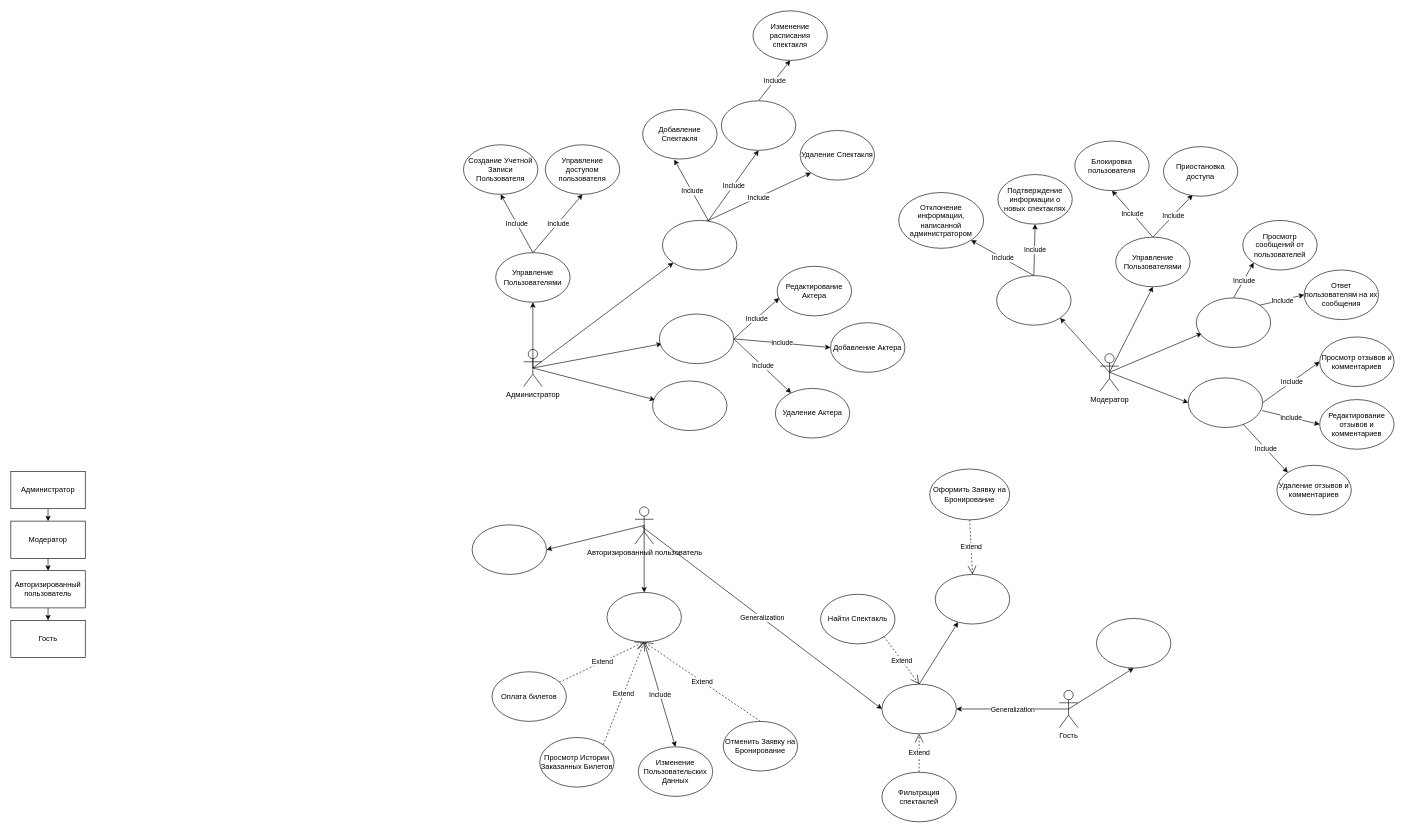
This 1405x833 diagram has some shape labels left out. Here are the shapes that lost their labels. From the top down, the centre of each, then its label:
At pixel 758 125: "Редактирование Спектакля".
At pixel 699 245: "Управление Спектаклями".
At pixel 1033 300: "Модерация информации о спектаклях".
At pixel 696 338: "Управление Актерами".
At pixel 1233 322: "Обратная связь".
At pixel 689 405: "Модерация Отзывов".
At pixel 1225 402: "Модерация отзывов и комментариев".
At pixel 509 549: "Оставление отзывов и рецензий".
At pixel 643 617: "Просмотр Личного Кабинета".
At pixel 972 599: "Просмотр Информации о Спектакле".
At pixel 1133 643: "Регистрация и аутентификация".
At pixel 918 709: "Просмотр всех спектаклей".
